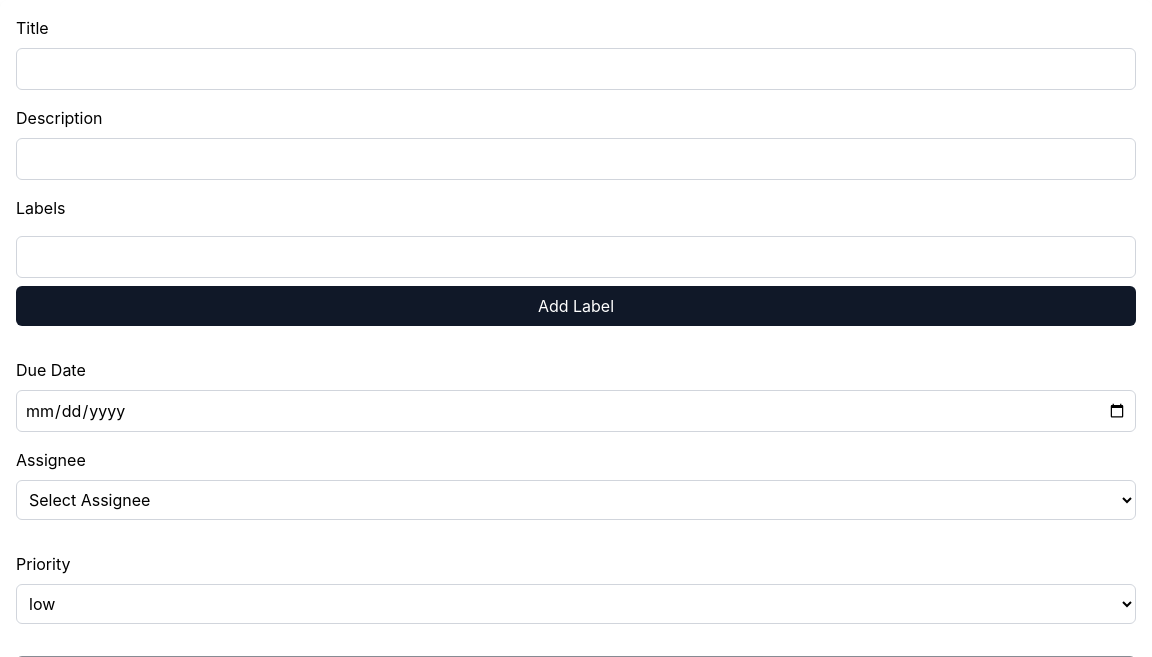
Scenario: CardForm Component › handles label addition and removal
Type "new-label" into the field labelled "Labels". click: point(576, 257)
box: [16, 236, 1136, 278]
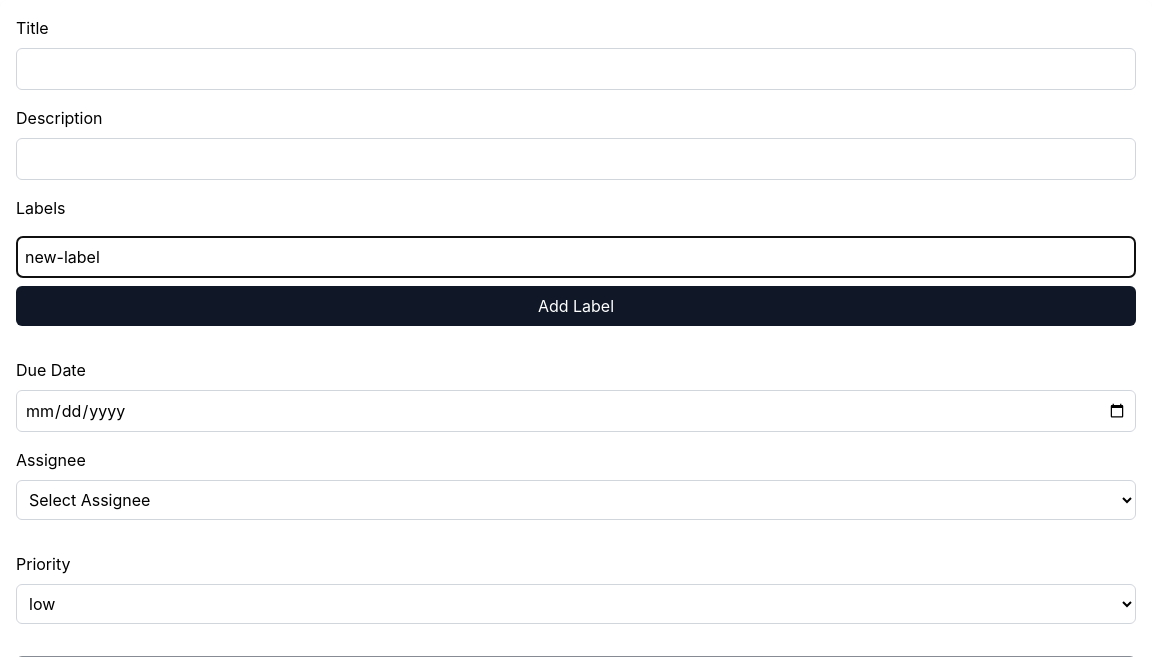
Click the button "Add Label". click: point(576, 306)
box: [16, 286, 1136, 326]
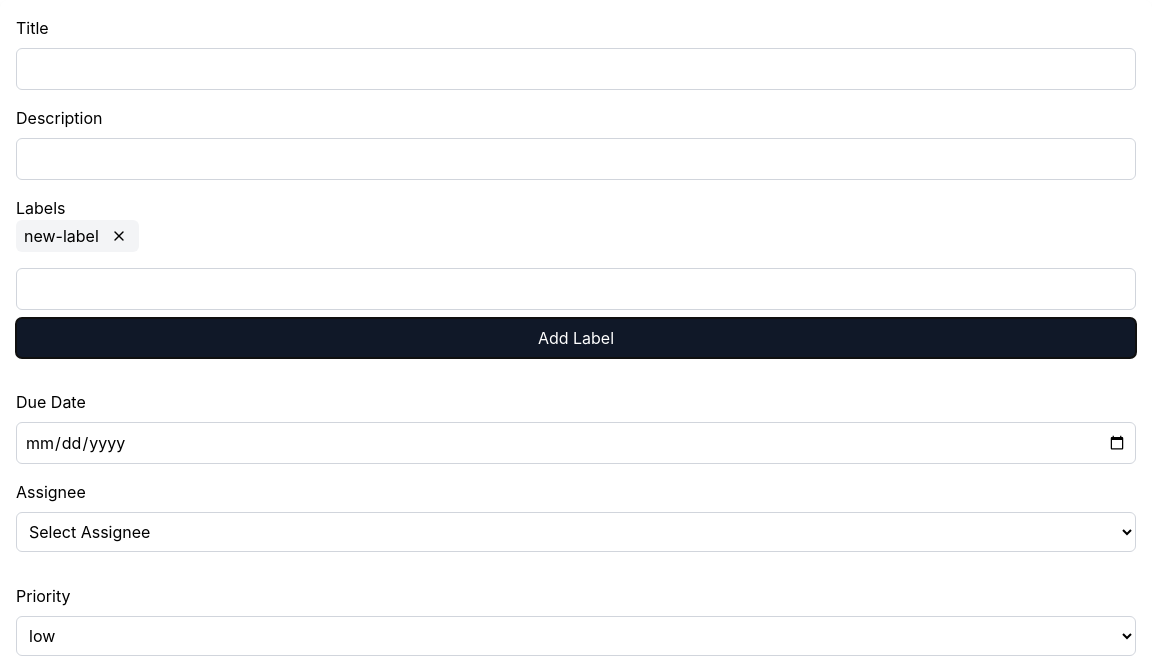
Now the text "new-label" is shown, box [16, 220, 139, 252]
Note: Remove label
Click the 1st button. click: point(119, 236)
box: [107, 224, 131, 248]
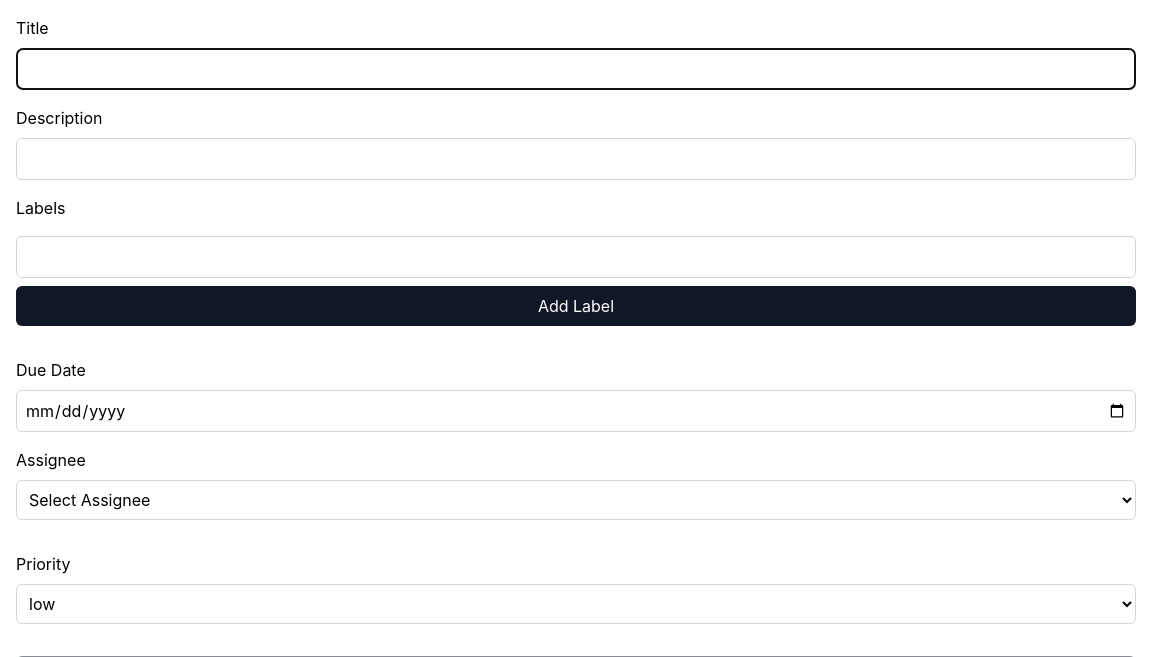
Now the text "new-label" is gone
